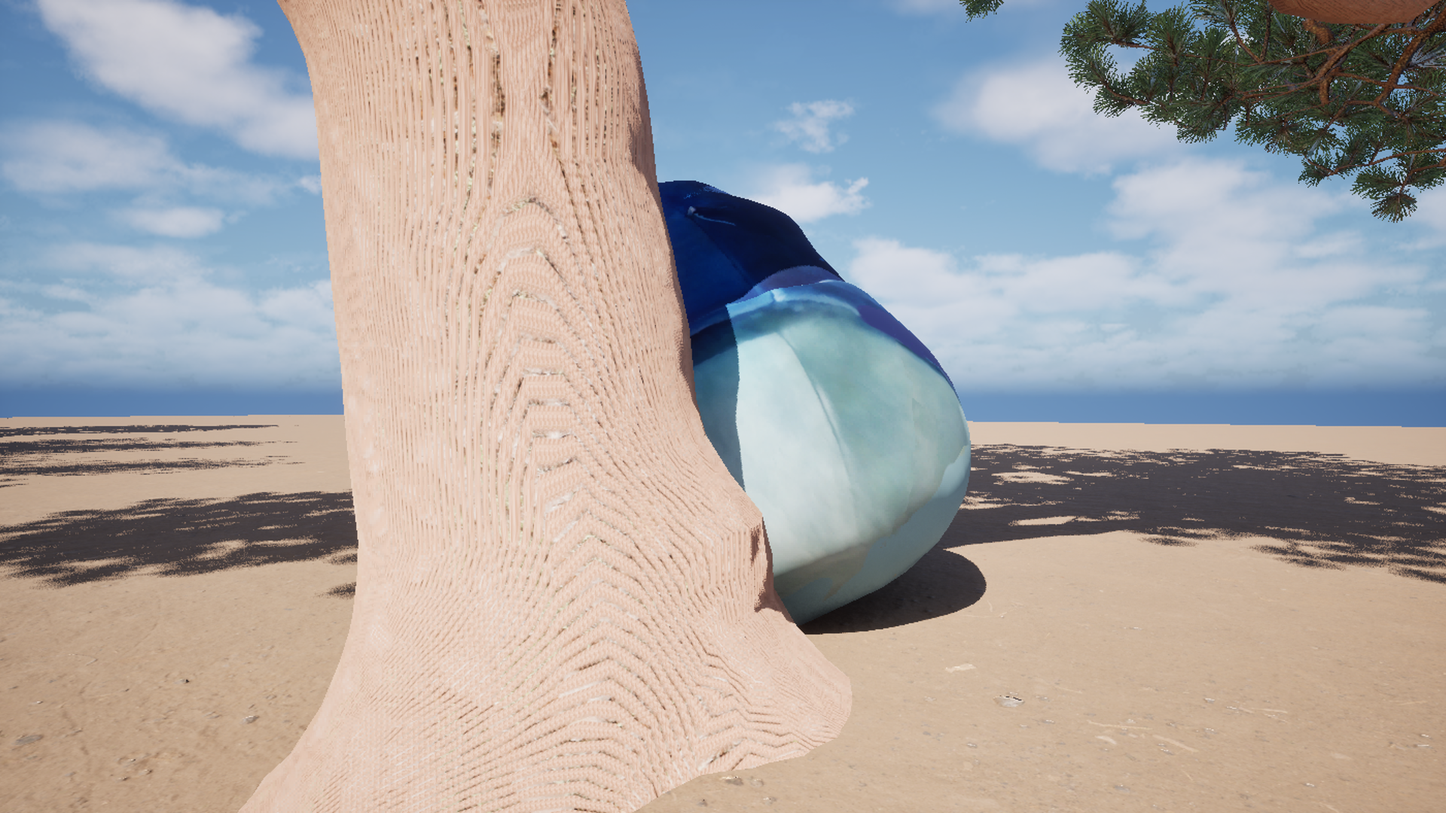Piplup: (215, 0, 1205, 813)
